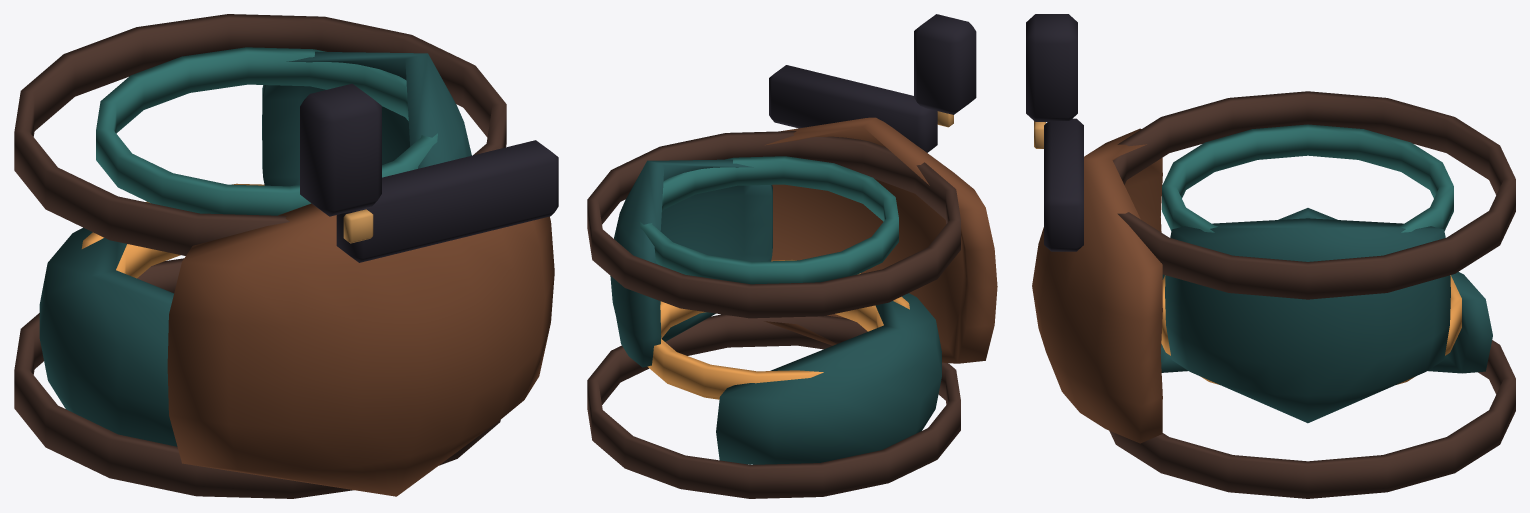
The model's file is acc.courier-gear.glb.
3 renders of one model, left to right at view 1: azimuth 30°, elevation 25°; view 2: azimuth 150°, elevation 25°; view 3: azimuth 270°, elevation 25°, orthographic. The views are drawn at different scales.
Visible parts, largest first — view 1: legR__leatherShadow, legR__leather, legR__uiDark, armL__tealDark, shinL__backpackTeal, shinL__tealDark, shinL__orange, legR__brass; view 2: legR__leather, armL__tealDark, legR__leatherShadow, shinL__tealDark, shinL__backpackTeal, legR__uiDark, armL__orange, shinL__orange; view 3: legR__leather, shinL__tealDark, legR__leatherShadow, shinL__backpackTeal, legR__uiDark, armL__tealDark, armL__orange.
Boxes of the visible parts, bbox=[...] form: legR__leatherShadow: bbox=[167, 203, 554, 496]; legR__leather: bbox=[14, 14, 506, 498]; legR__uiDark: bbox=[300, 83, 558, 262]; armL__tealDark: bbox=[39, 227, 177, 446]; shinL__backpackTeal: bbox=[96, 47, 437, 215]; shinL__tealDark: bbox=[262, 51, 471, 186]; shinL__orange: bbox=[116, 244, 180, 278]; legR__brass: bbox=[343, 209, 373, 243]; legR__leather: bbox=[587, 131, 960, 498]; armL__tealDark: bbox=[716, 293, 941, 464]; legR__leatherShadow: bbox=[764, 117, 997, 363]; shinL__tealDark: bbox=[610, 159, 772, 367]; shinL__backpackTeal: bbox=[639, 156, 898, 284]; legR__uiDark: bbox=[769, 14, 976, 152]; armL__orange: bbox=[647, 259, 909, 397]; shinL__orange: bbox=[648, 302, 883, 399]; legR__leather: bbox=[1109, 91, 1515, 498]; shinL__tealDark: bbox=[1165, 218, 1450, 423]; legR__leatherShadow: bbox=[1032, 128, 1162, 443]; shinL__backpackTeal: bbox=[1162, 124, 1453, 232]; legR__uiDark: bbox=[1026, 14, 1083, 251]; armL__tealDark: bbox=[1160, 208, 1492, 373]; armL__orange: bbox=[1161, 275, 1461, 355].
Bounding box in the file's own units: 0.208 × 0.204 × 0.245.
